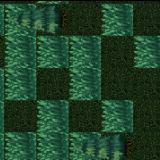Obstacle: (36, 3, 70, 35), (101, 132, 133, 160)
Slow: (4, 3, 36, 99), (36, 34, 101, 68), (36, 99, 68, 160), (102, 98, 134, 132), (69, 67, 101, 99), (101, 2, 133, 34), (4, 131, 35, 160), (69, 131, 100, 160), (133, 34, 160, 66)
